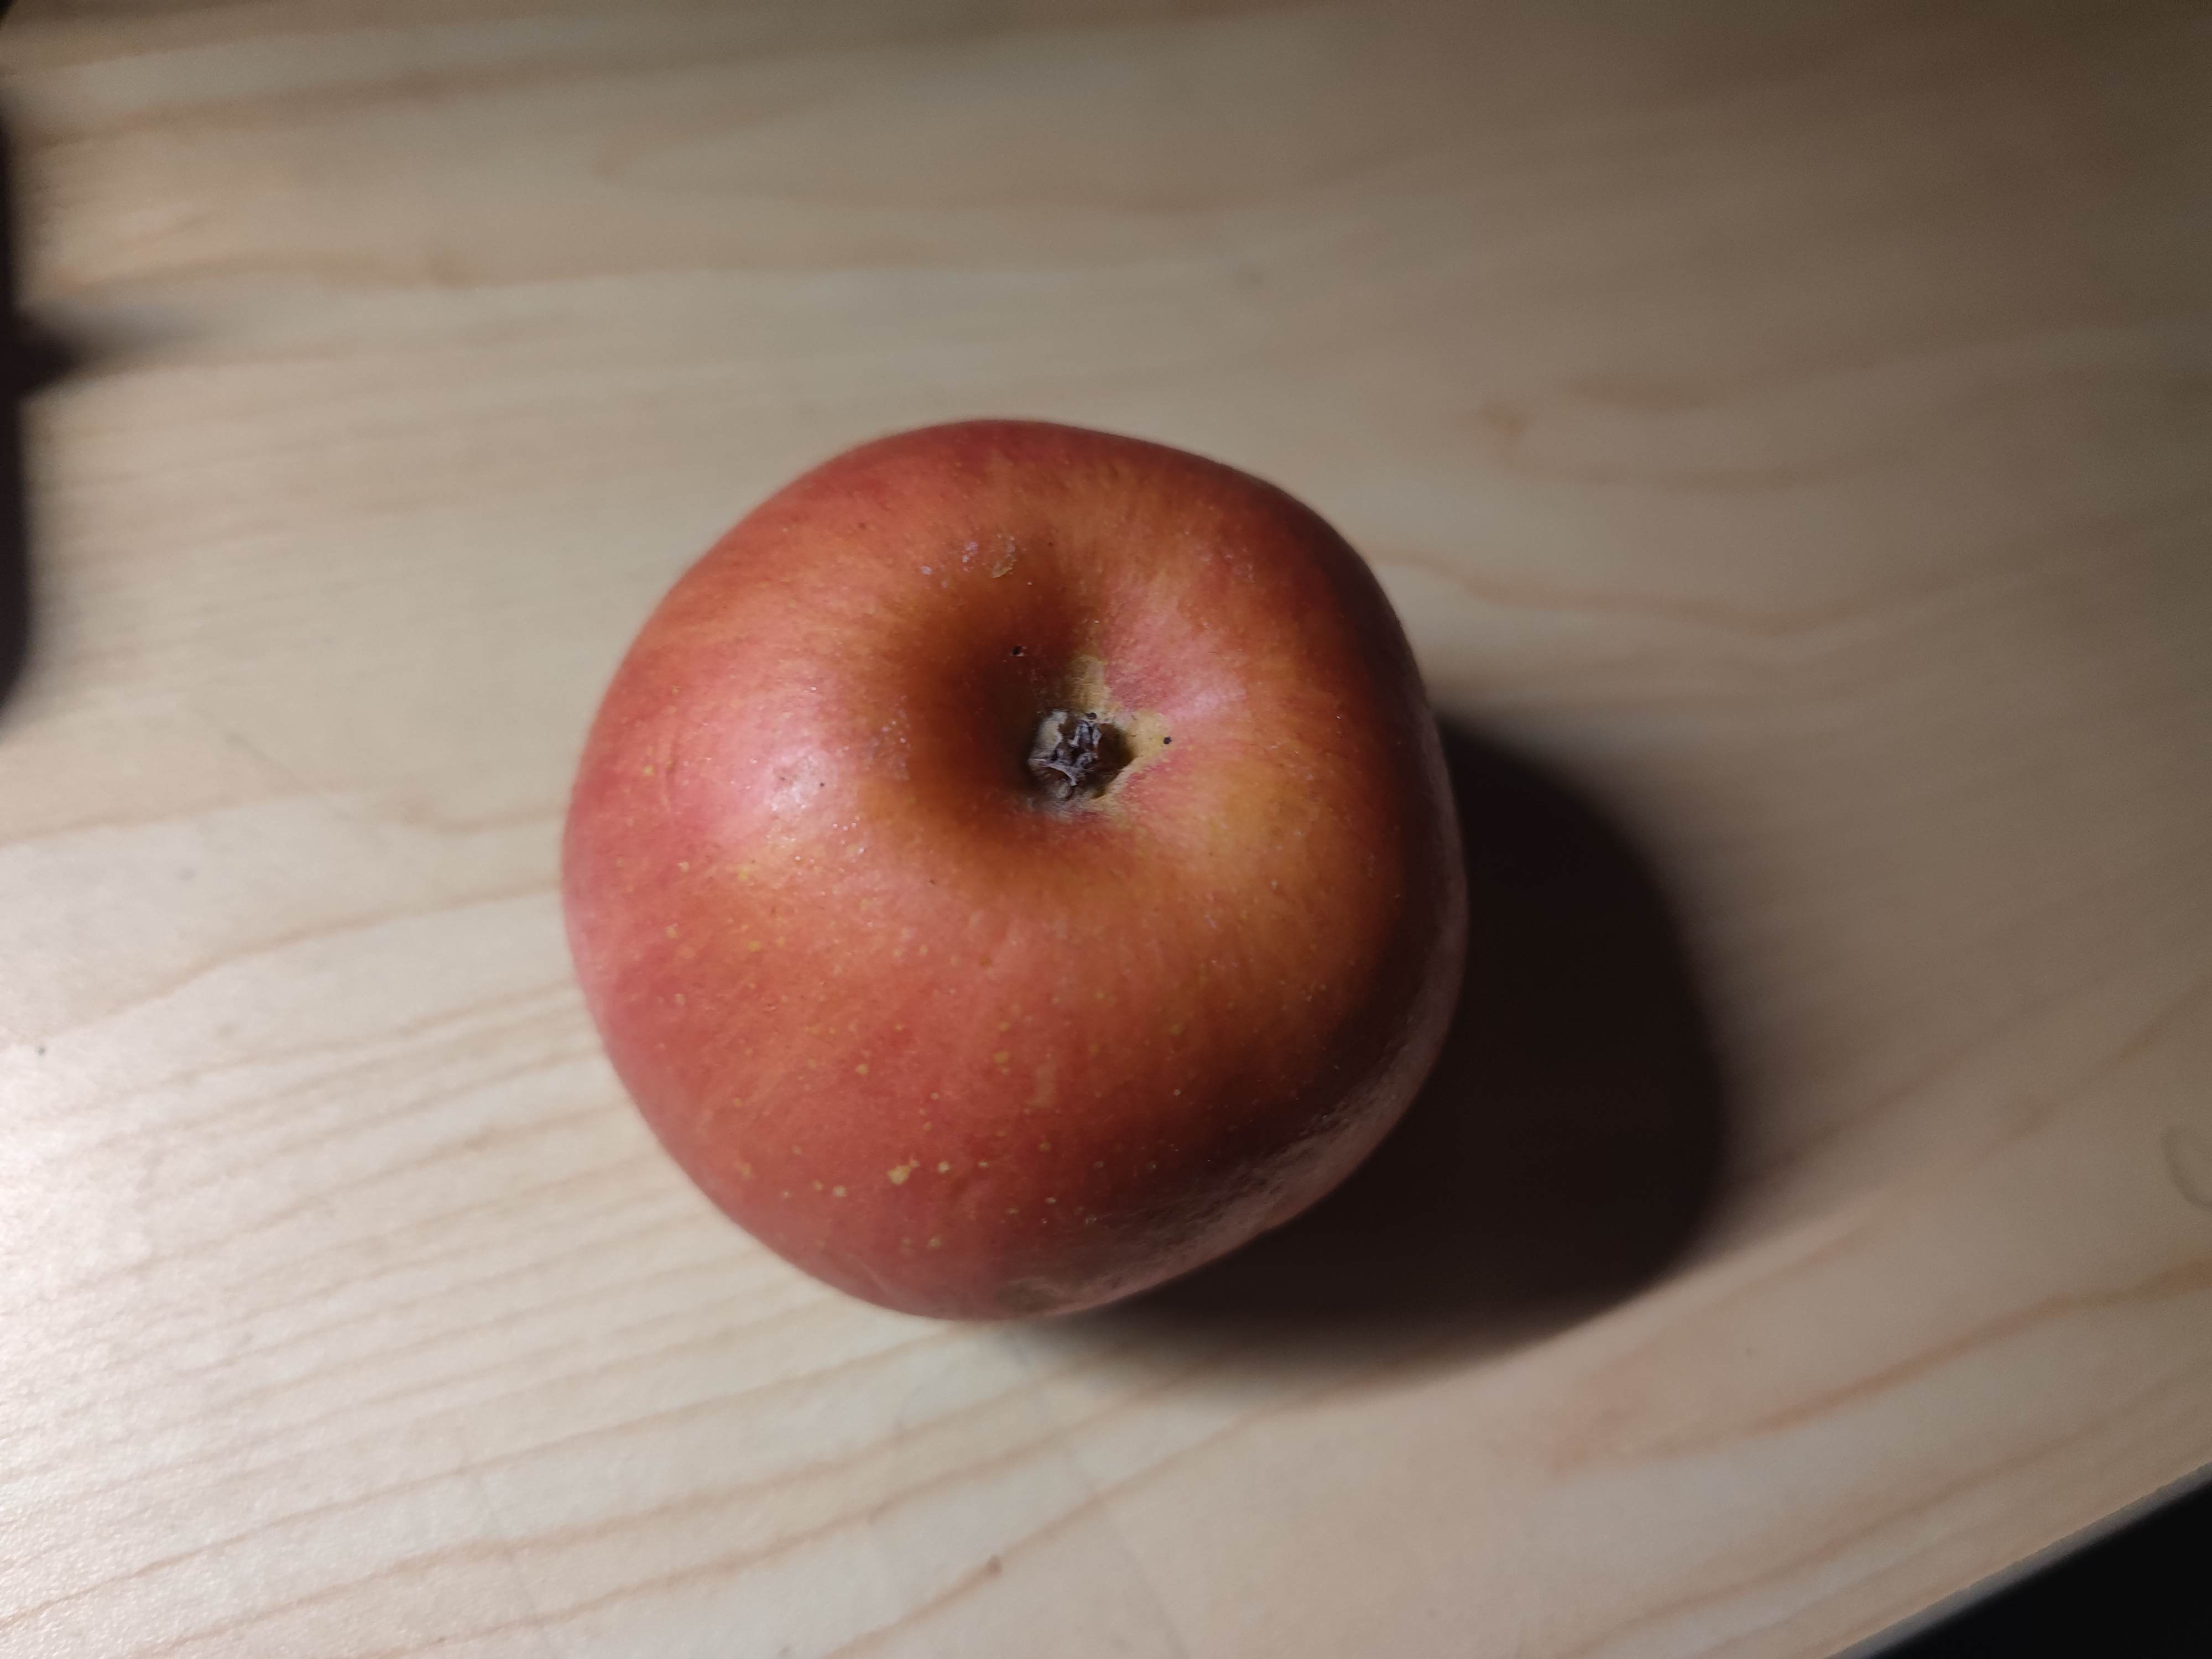apple: (557, 415, 1477, 1323)
